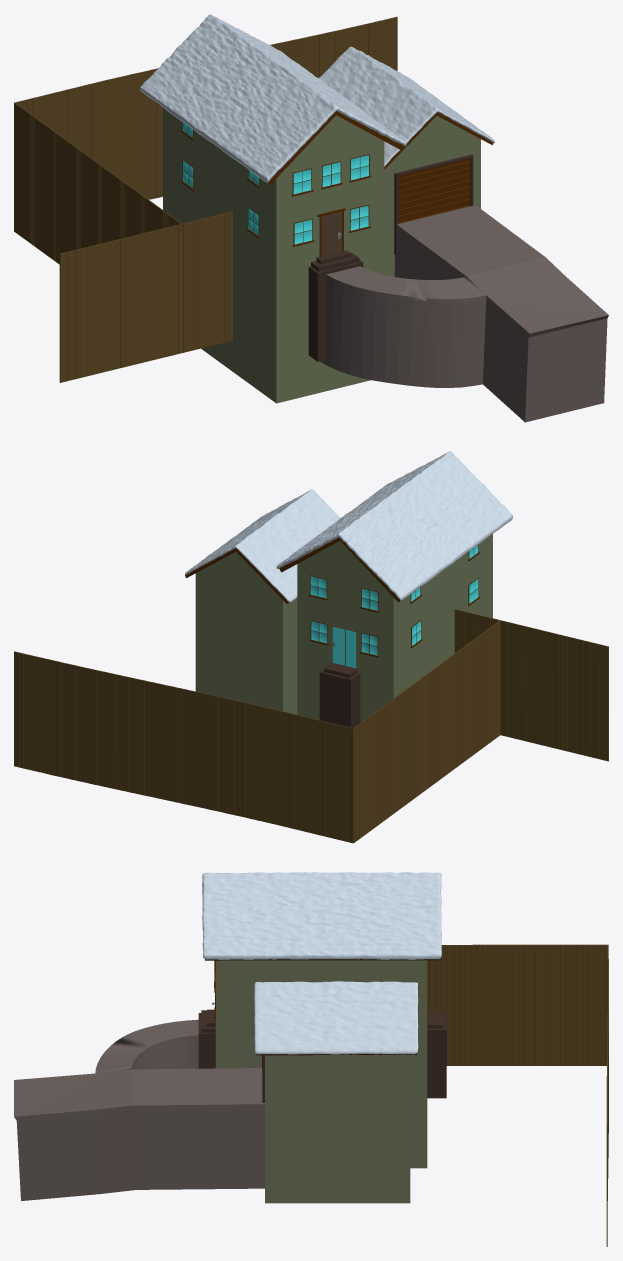
The model's file is testaburgersshouse_compressed.glb.
The picture shows the model from 3 angles, top to bottom: view 1: azimuth 30°, elevation 25°; view 2: azimuth 150°, elevation 25°; view 3: azimuth 270°, elevation 25°; orthographic projection. The views are drawn at different scales.
Visible parts, largest first — view 1: Cube.688, Cube.682, Cube.687, Cube.701, Cube.683, Cube.684, Cube.697; view 2: Cube.688, Cube.687, Cube.701, Cube.683, Cube.684; view 3: Cube.682, Cube.701, Cube.687, Cube.688, Cube.684, Cube.683.
Boxes of the visible parts, x1,y1,x2,y2 form: Cube.688: (14,16,397,382); Cube.682: (320,204,608,422); Cube.687: (163,107,480,403); Cube.701: (140,14,494,182); Cube.683: (181,111,493,256); Cube.684: (308,154,473,361); Cube.697: (321,211,342,255); Cube.688: (14,609,608,843); Cube.687: (195,534,492,722); Cube.701: (185,451,512,602); Cube.683: (185,537,479,668); Cube.684: (319,663,360,728); Cube.682: (14,1019,264,1200); Cube.701: (202,872,441,1054); Cube.687: (215,960,427,1203); Cube.688: (427,944,608,1246); Cube.684: (198,1009,446,1102); Cube.683: (205,959,438,1055).
Size of the model in its own units: 5.44 by 2.99 by 5.94.
